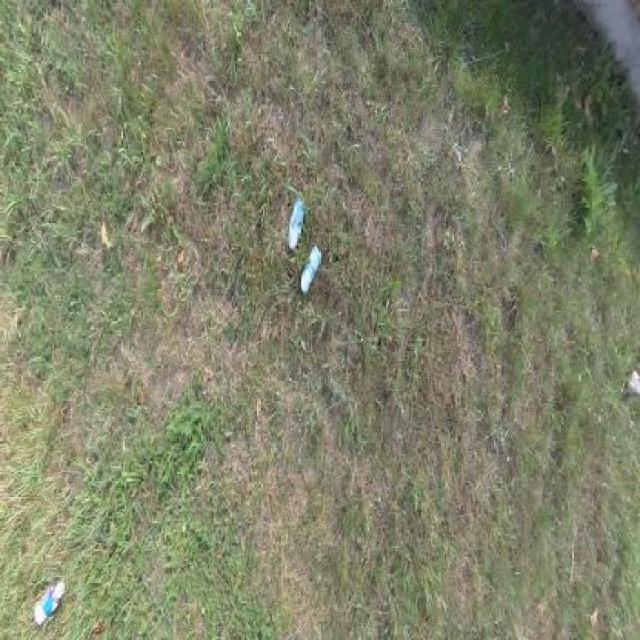Garbage: (34, 578, 65, 626), (298, 241, 321, 292), (286, 196, 306, 251)
